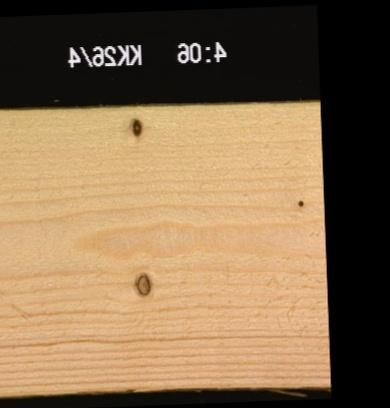dry_knot: (134, 270, 152, 296), (129, 116, 143, 137)
small_knot: (295, 196, 305, 207)
